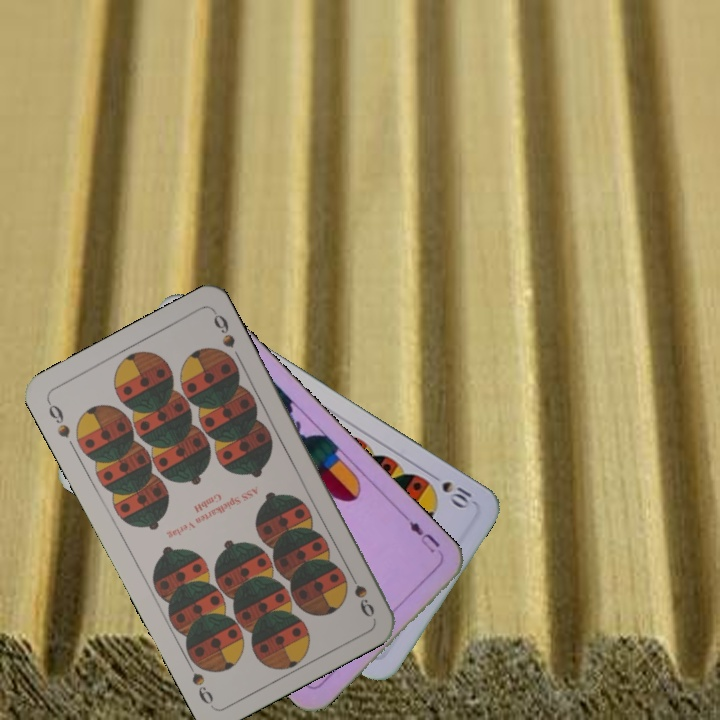EU: (404, 516, 443, 556)
S10: (437, 476, 475, 511)
S9: (343, 565, 377, 621), (43, 396, 73, 441)
